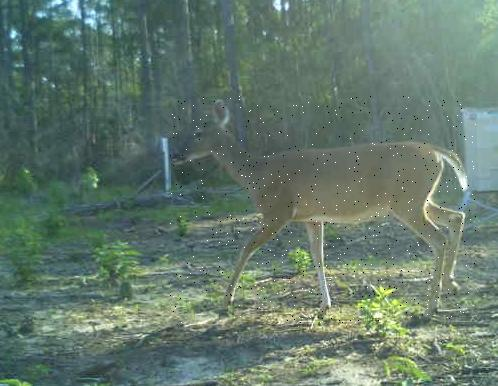Deer: (169, 97, 476, 324)
